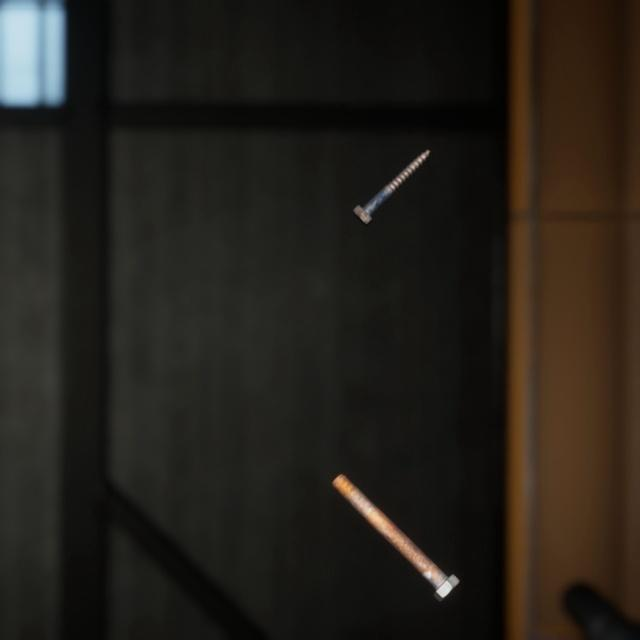bolt: (327, 448, 464, 584), (348, 132, 435, 216)
